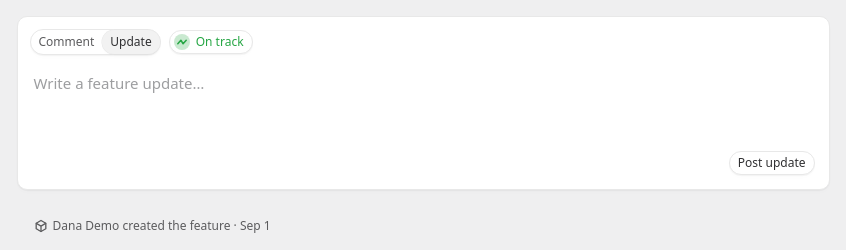
Test: Update mode reads 'Write a feature update…' and Post update; Comment mode hides the chip and reads Leave a comment…
Expected: the button with aria-label "Submit update" reads "Post update", [729,151,814,175]
Step 1. Click the tab "Comment" → [66, 42], box [30,30,102,54]
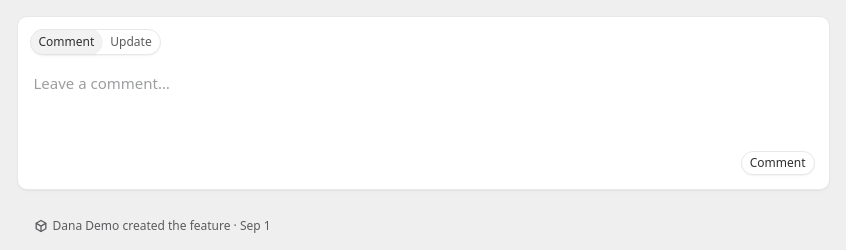
Expected: the button with aria-label "Submit comment" reads "Comment", [741,151,814,175]
